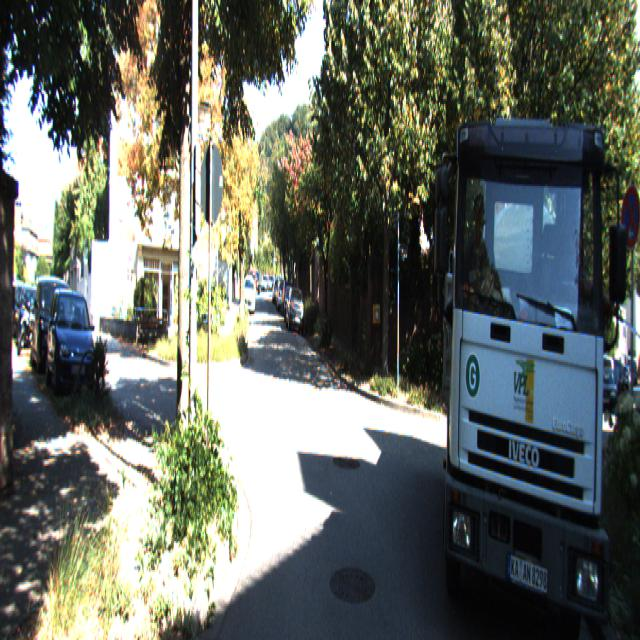Car: (439, 56, 619, 638), (46, 286, 99, 400), (28, 274, 80, 378), (285, 285, 305, 335), (243, 278, 256, 318)
